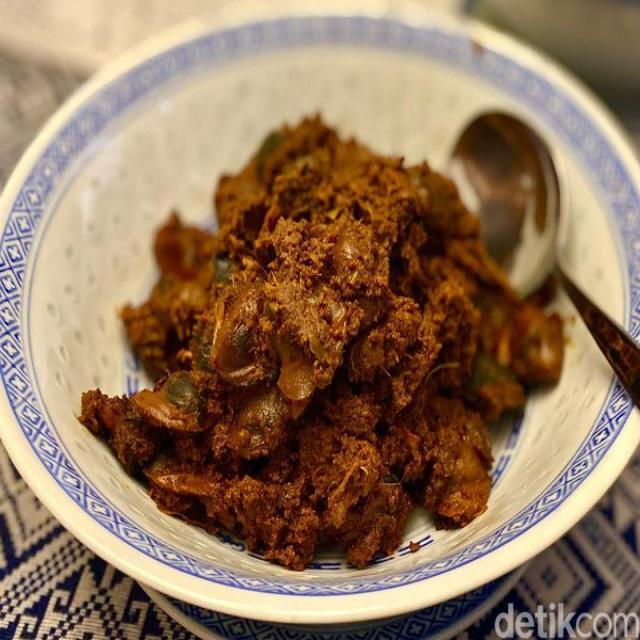Rendang: (83, 80, 562, 582)
